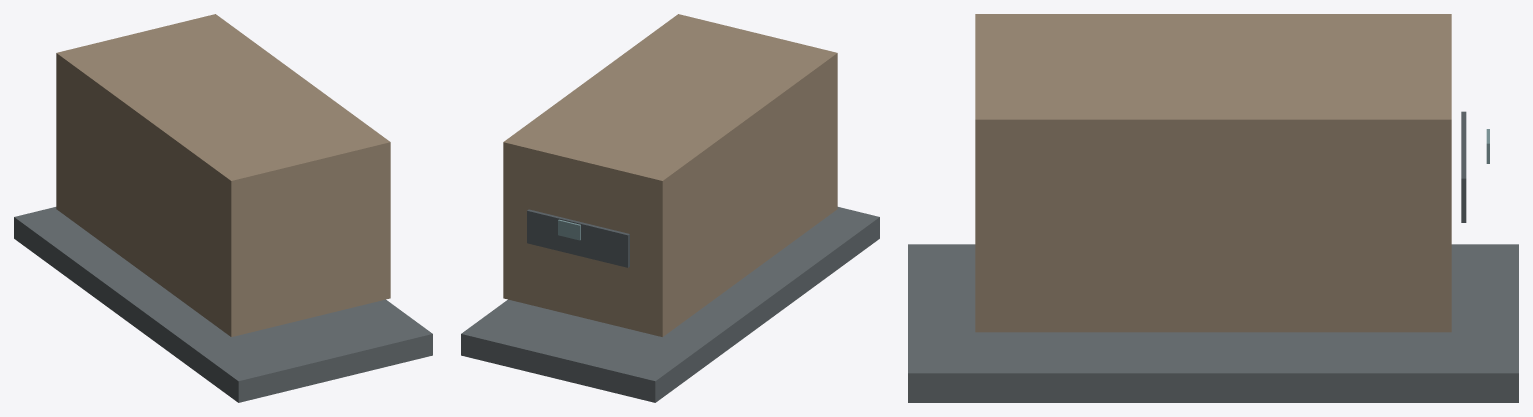
Rendered from iz3_prison_service_02.glb.
The picture shows the model from 3 angles, left to right: view 1: azimuth 30°, elevation 25°; view 2: azimuth 150°, elevation 25°; view 3: azimuth 270°, elevation 25°; orthographic projection. The views are drawn at different scales.
Parts seen in each view (by area): view 1: cabinet, base; view 2: cabinet, base, panel, display; view 3: cabinet, base, panel.
Part boxes in pixels (left/top/right/bottom): cabinet: left=56, top=14, right=390, bottom=336; base: left=14, top=207, right=432, bottom=402; cabinet: left=503, top=14, right=837, bottom=336; base: left=461, top=207, right=879, bottom=402; panel: left=527, top=209, right=629, bottom=267; display: left=558, top=219, right=580, bottom=240; cabinet: left=975, top=14, right=1451, bottom=332; base: left=908, top=244, right=1518, bottom=402; panel: left=1461, top=111, right=1466, bottom=222.
Bounding box in the file's own units: 3 × 2.94 × 6.
